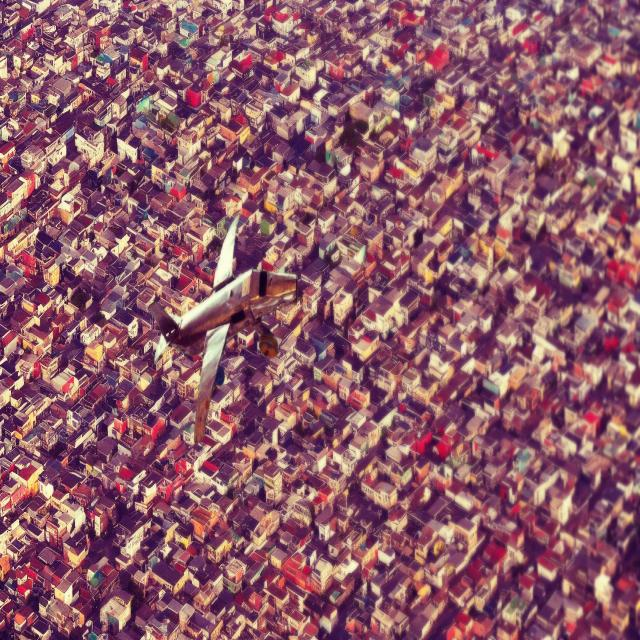airplane: (148, 213, 298, 445)
